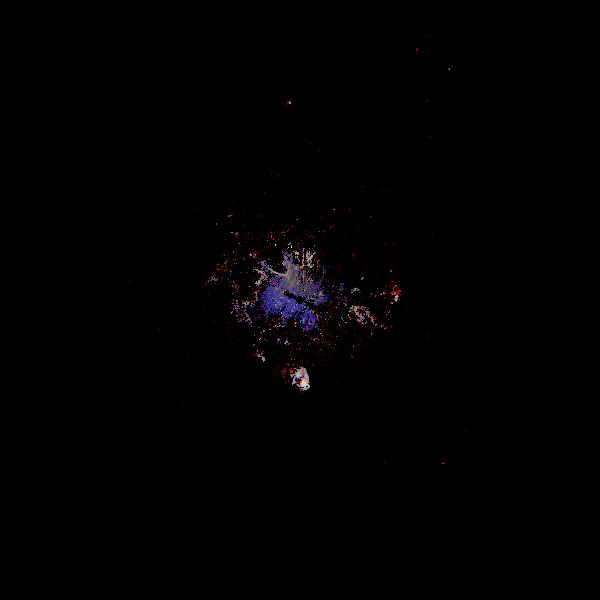roost: (287, 365, 317, 395), (391, 291, 403, 303)
